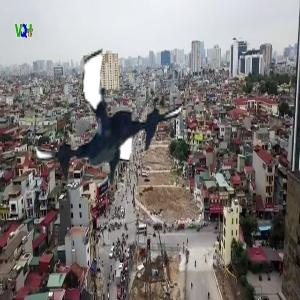drone: (29, 32, 194, 197)
